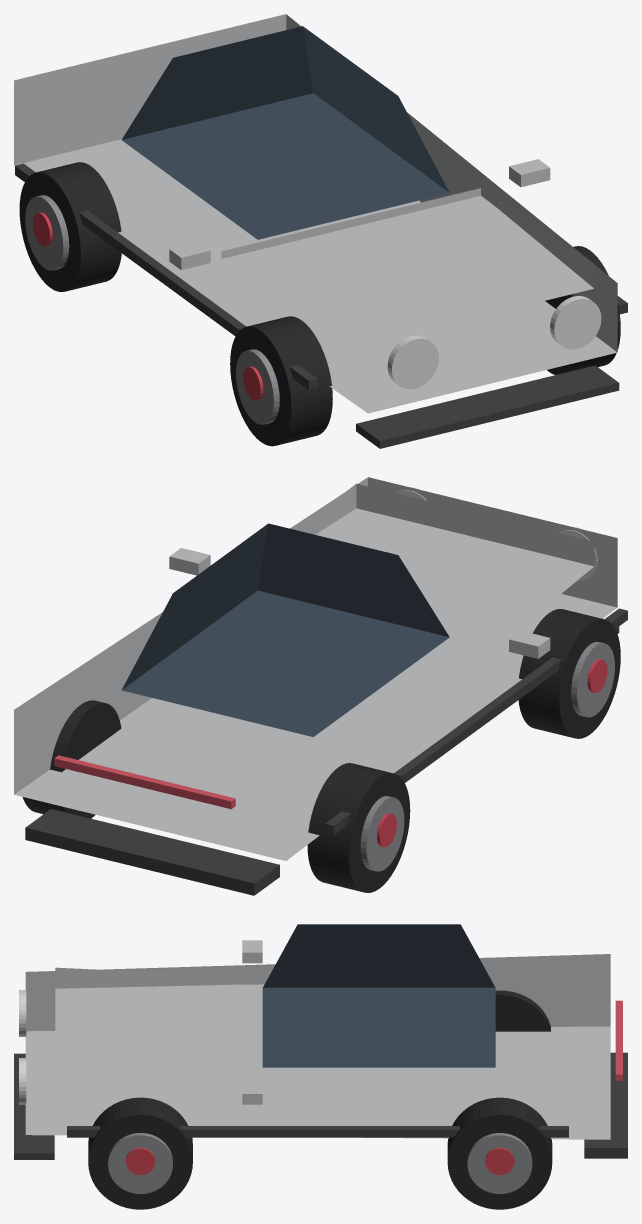
File: silver_911_porsche_style.glb
3 renders of one model, top to bottom at view 1: azimuth 30°, elevation 25°; view 2: azimuth 150°, elevation 25°; view 3: azimuth 270°, elevation 25°, orthographic. The views are drawn at different scales.
Parts seen in each view (by area): view 1: part_0, part_2, part_1, part_8, part_3, part_11, part_22, part_5, part_6, part_9, part_12, part_14 (+2 smaller); view 2: part_0, part_2, part_1, part_4, part_11, part_8, part_22, part_17, part_7, part_12, part_9, part_20 (+1 smaller); view 3: part_0, part_2, part_1, part_17, part_14, part_23, part_15, part_18, part_4, part_11, part_3, part_19 (+4 smaller).
Part boxes in pixels (left/top/right/bottom): part_0: left=14, top=14, right=617, bottom=413; part_2: left=121, top=26, right=449, bottom=239; part_1: left=221, top=188, right=594, bottom=346; part_8: left=230, top=316, right=332, bottom=446; part_3: left=356, top=365, right=619, bottom=448; part_11: left=19, top=162, right=121, bottom=291; part_22: left=15, top=163, right=317, bottom=390; part_5: left=387, top=335, right=438, bottom=389; part_6: left=550, top=296, right=601, bottom=349; part_9: left=236, top=349, right=279, bottom=424; part_12: left=25, top=195, right=69, bottom=270; part_14: left=545, top=246, right=620, bottom=374; part_0: left=14, top=477, right=617, bottom=860; part_2: left=122, top=523, right=449, bottom=736; part_1: left=296, top=483, right=594, bottom=659; part_4: left=25, top=809, right=279, bottom=895; part_11: left=307, top=763, right=410, bottom=892; part_8: left=518, top=609, right=620, bottom=738; part_22: left=325, top=608, right=627, bottom=834; part_17: left=22, top=700, right=121, bottom=818; part_7: left=54, top=755, right=235, bottom=809; part_12: left=360, top=796, right=404, bottom=871; part_9: left=571, top=641, right=614, bottom=717; part_20: left=509, top=630, right=550, bottom=658; part_0: left=25, top=954, right=610, bottom=1139; part_2: left=262, top=924, right=495, bottom=1067; part_1: left=55, top=967, right=266, bottom=1092; part_17: left=447, top=1097, right=552, bottom=1209; part_14: left=88, top=1097, right=192, bottom=1209; part_23: left=67, top=1126, right=568, bottom=1137; part_15: left=108, top=1133, right=172, bottom=1193; part_18: left=467, top=1133, right=532, bottom=1193; part_4: left=584, top=1052, right=627, bottom=1158; part_11: left=495, top=990, right=550, bottom=1031; part_3: left=14, top=1053, right=54, bottom=1159; part_19: left=485, top=1147, right=514, bottom=1175.
Bounding box in the file's own units: 2.5 × 1.44 × 4.22.
